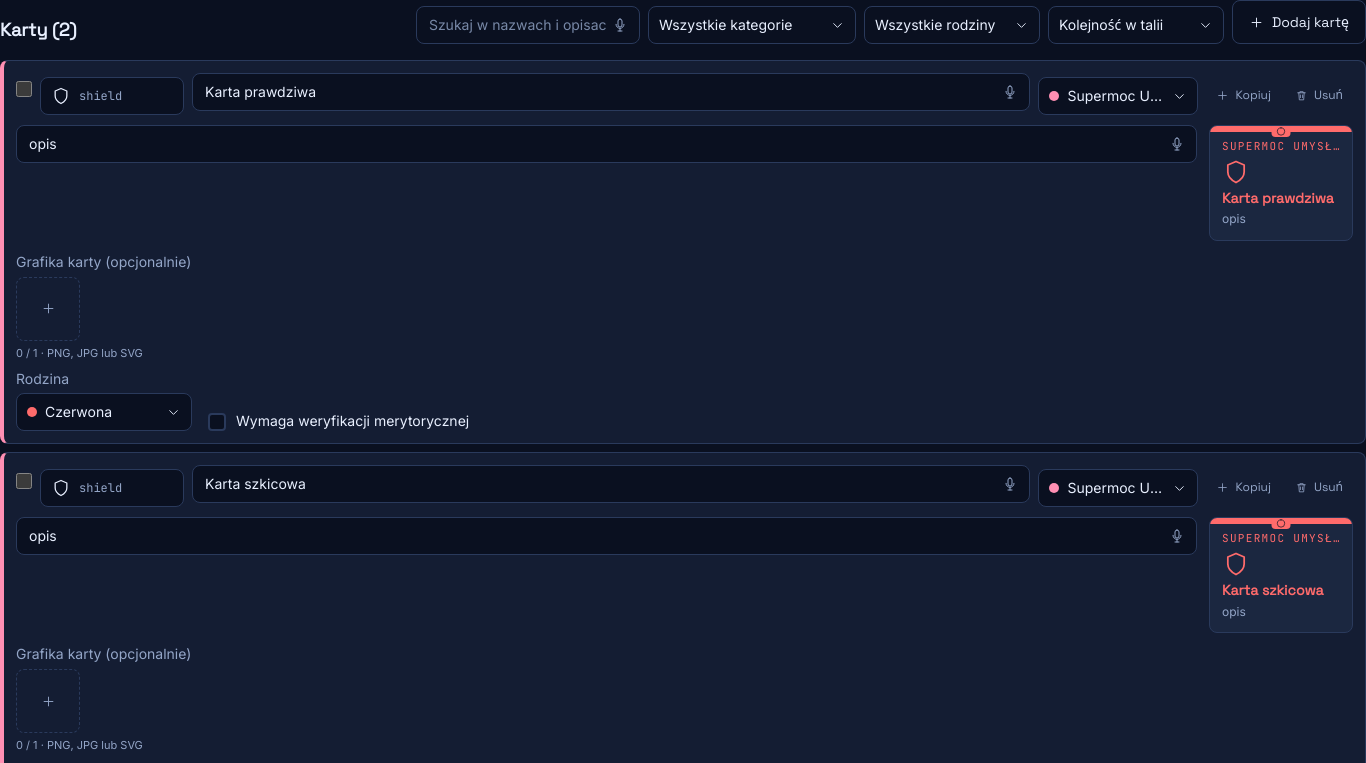
Test: CardEditor — ostrzeżenie o ostatniej karcie liczy tylko nieroboczą treść › ostrzega przy usuwaniu jedynej nieroboczej karty, mimo że istnieje jej szkicowy bliźniak
Click the 1st button "Usuń" at (1319, 95), box 1285,73 -> 1353,117
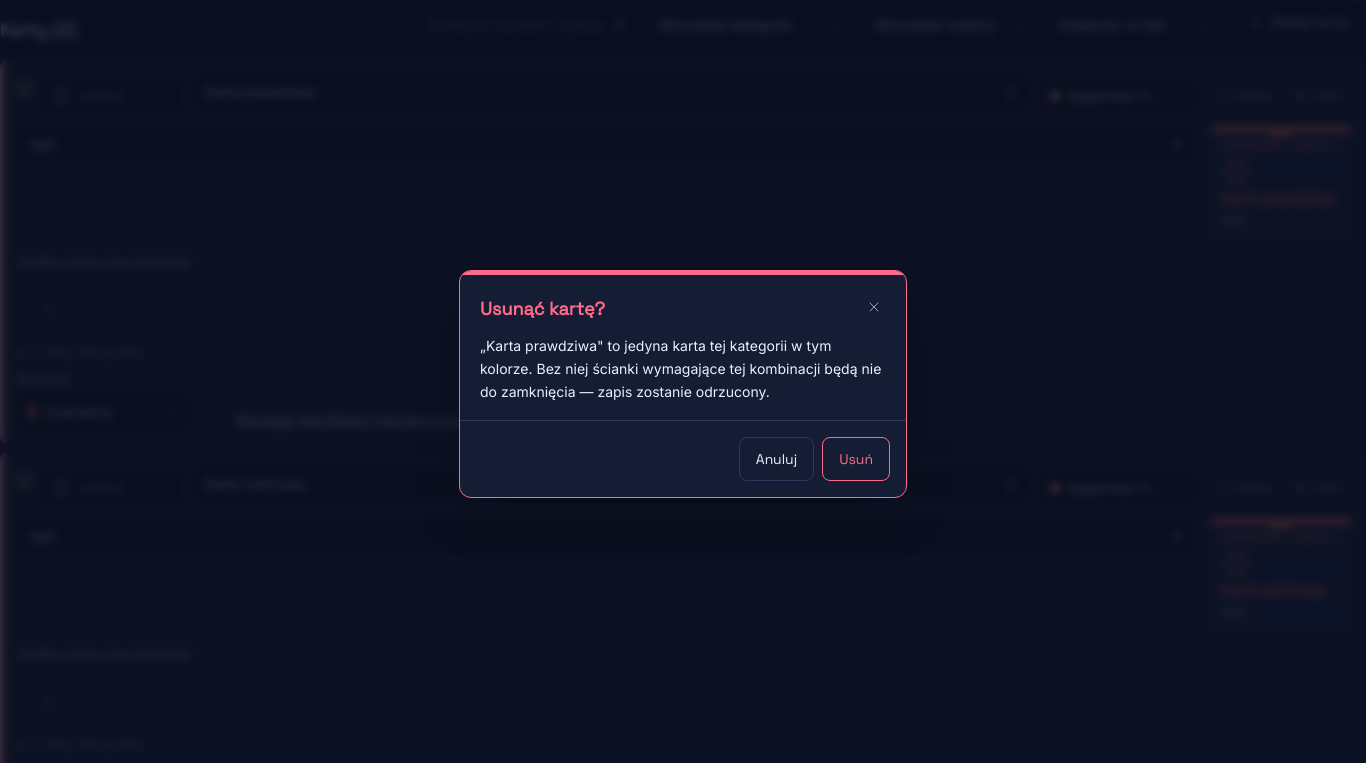
Result: the text "jedyna karta tej kategorii" is shown at 480,337 -> 881,400
